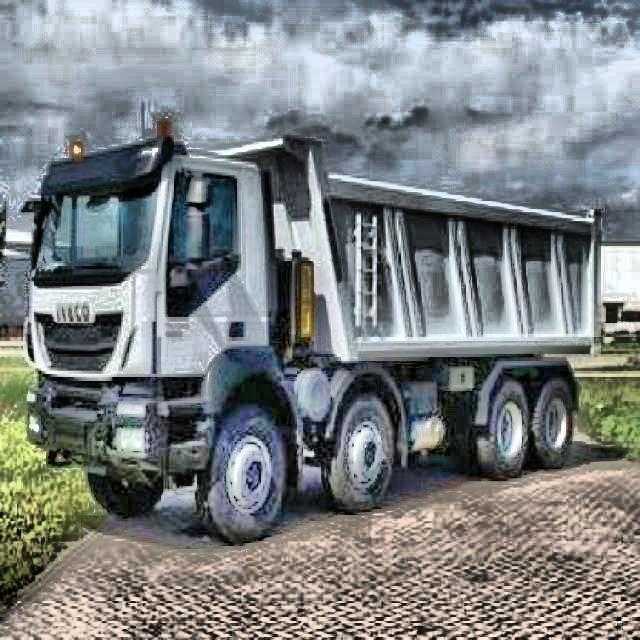dump_truck: (0, 105, 611, 547)
